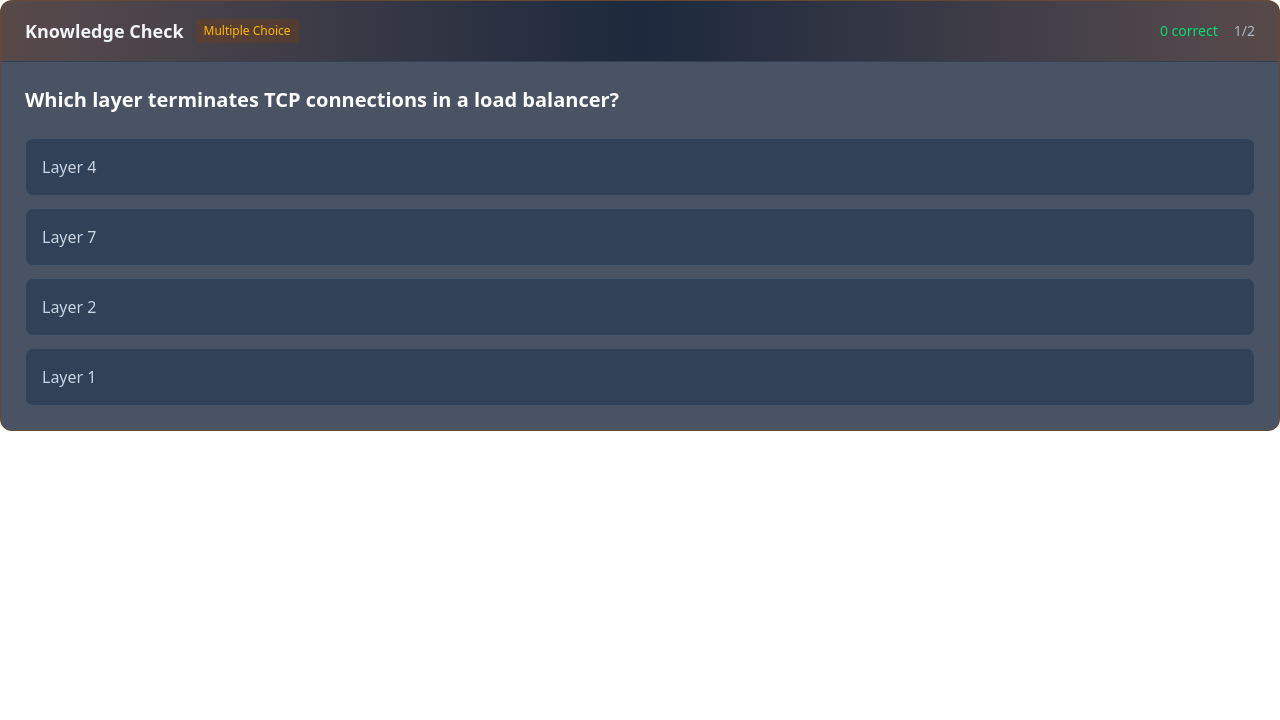
Test: Quiz › multiple choice › explains a wrong answer and reveals the correct option
The width and height of the screenshot is (1280, 720).
Click the radio button with aria-label "Option 1: Layer 4" at (69,167), box [25,138,1255,196]
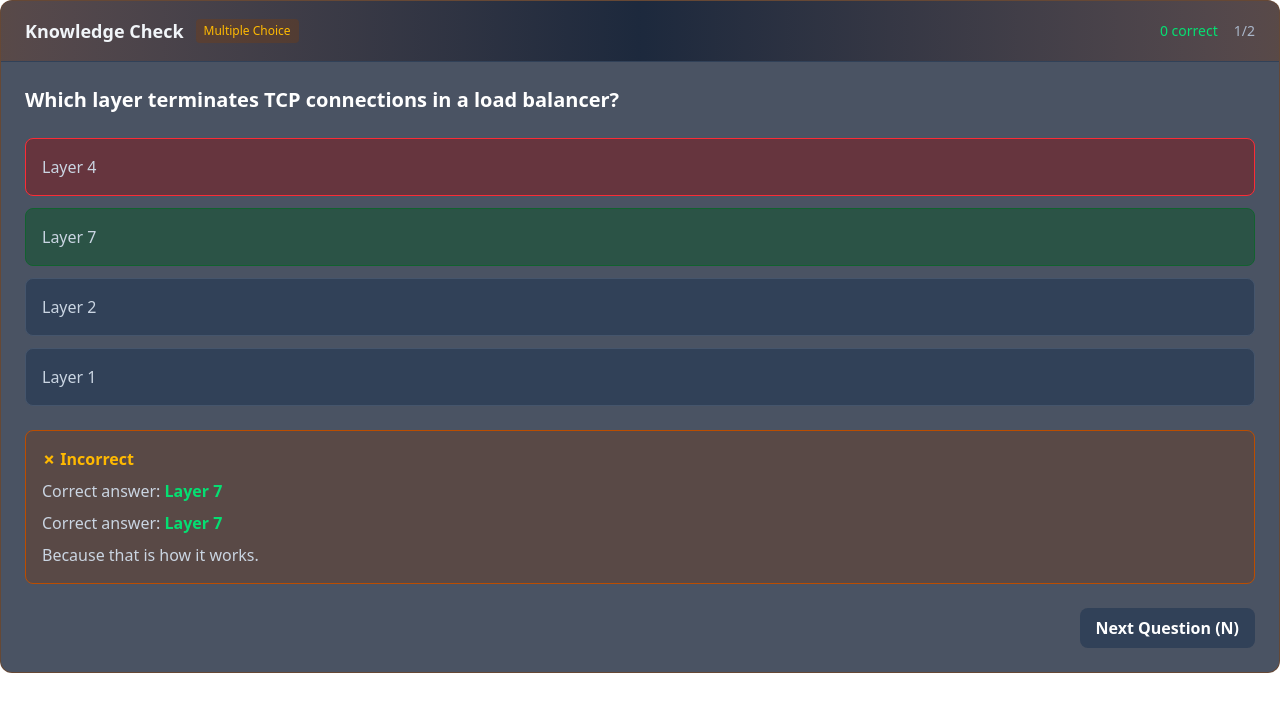
expect the text "0 correct" is shown: met, box [1160,21,1218,41]
expect the text "✗ Incorrect" is shown: met, box [42,448,134,470]
expect the text "Correct answer: Layer 7" is shown 2 times: met, box [42,480,222,502]; [42,512,222,534]
